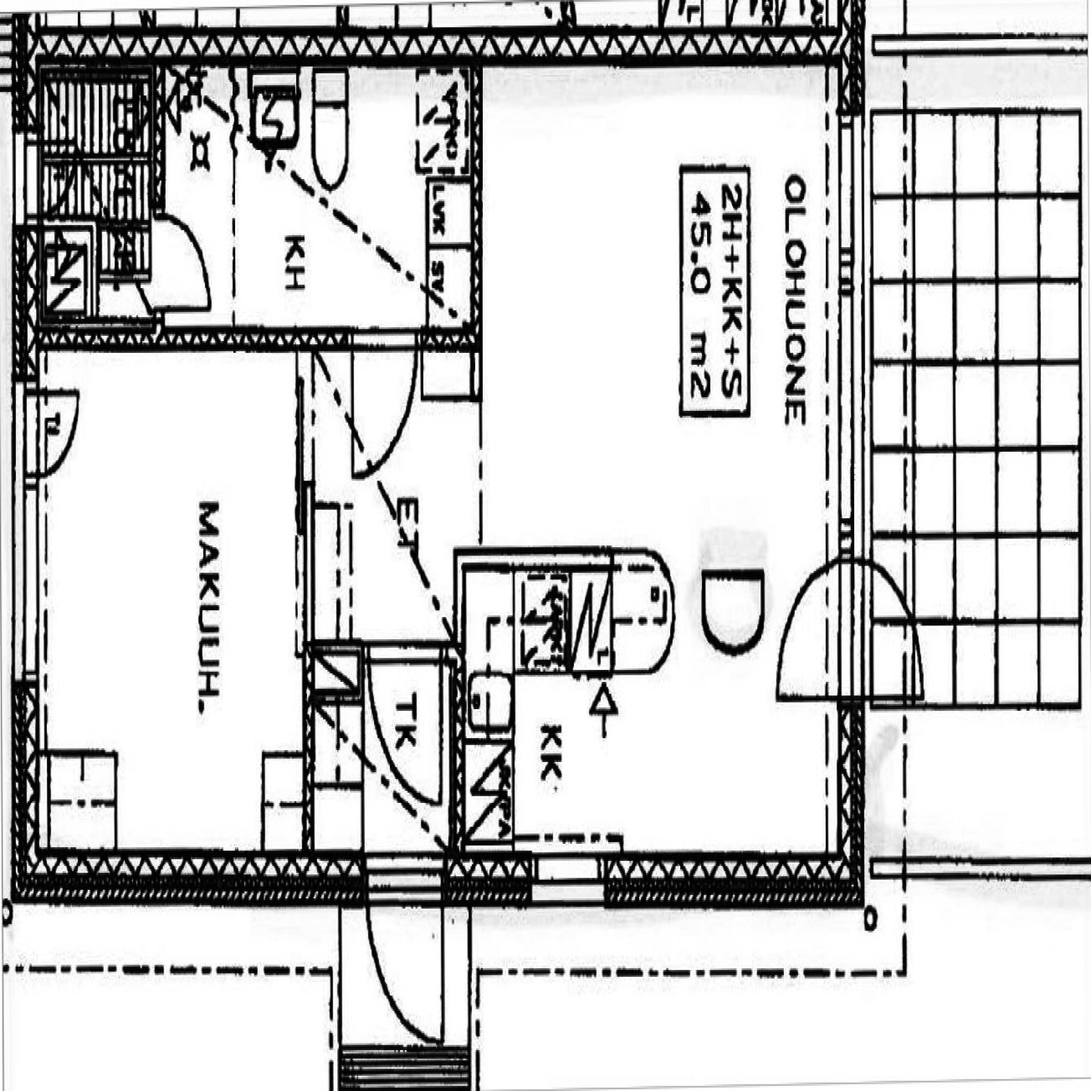wall: (12, 850, 864, 906), (839, 29, 864, 905), (13, 349, 39, 906), (482, 29, 864, 63), (164, 29, 482, 63), (13, 29, 42, 350), (13, 29, 164, 78), (164, 327, 482, 350), (13, 317, 164, 350), (303, 479, 314, 905), (454, 550, 465, 906), (303, 641, 363, 702), (471, 29, 482, 350), (454, 549, 613, 571), (153, 63, 164, 349), (363, 642, 465, 664), (471, 327, 482, 401)
